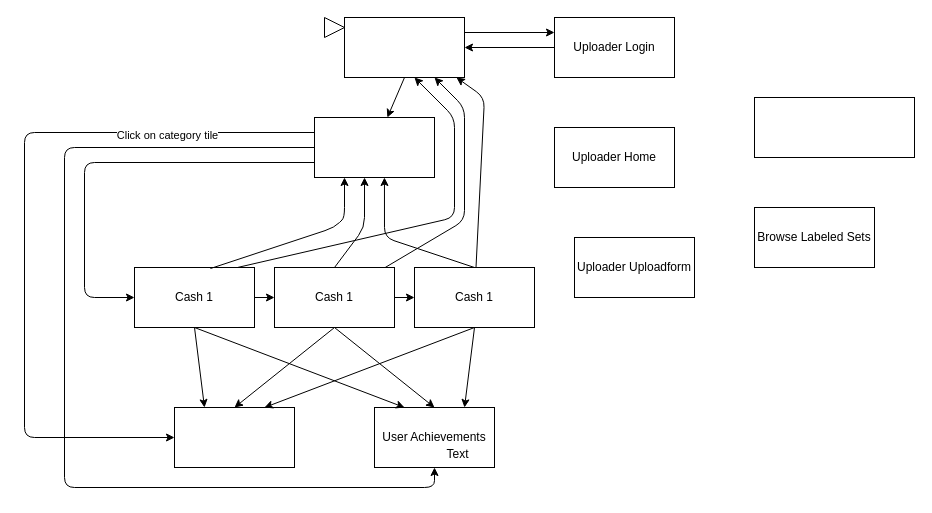
Image size: 932x513. Some labels were removed from this diagram. The shapes that lost their labels are listed below. From the top down, each one's centre as x and y in pixels, then its label:
At point (404, 47): "User Login".
At point (374, 147): "User Home".
At point (834, 127): "Uploader Analytics".
At point (234, 437): "User Highscore".
